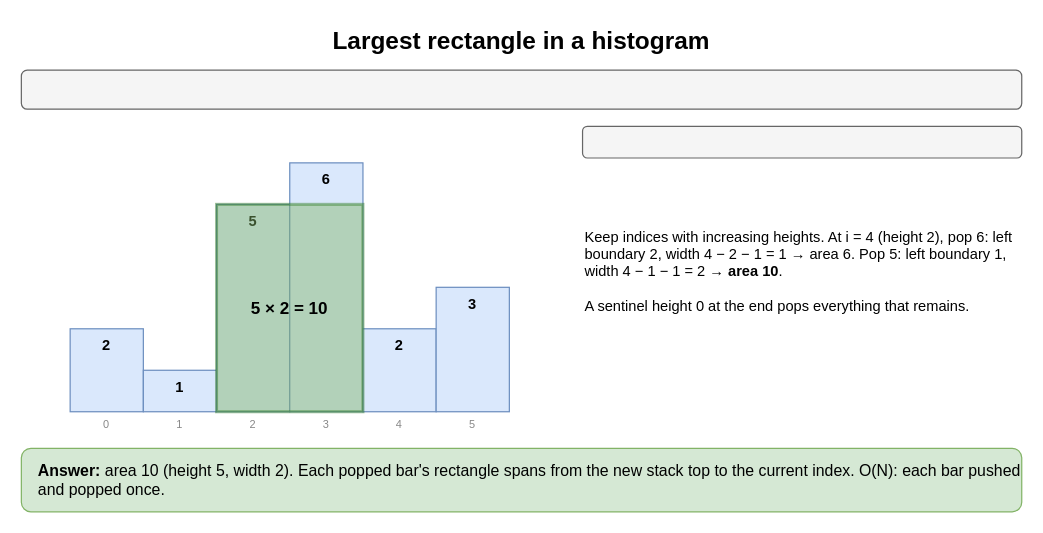
Some shapes in this 1043 by 533 pixel diagram are drawn without their labels. Here are the shapes that lost their labels. From the top down, the centre of each, then its label:
At (521,89): "heights [2, 1, 5, 6, 2, 3]: the best rectangle uses bars 2–3 at height 5".
At (801,141): "How the stack finds it".
